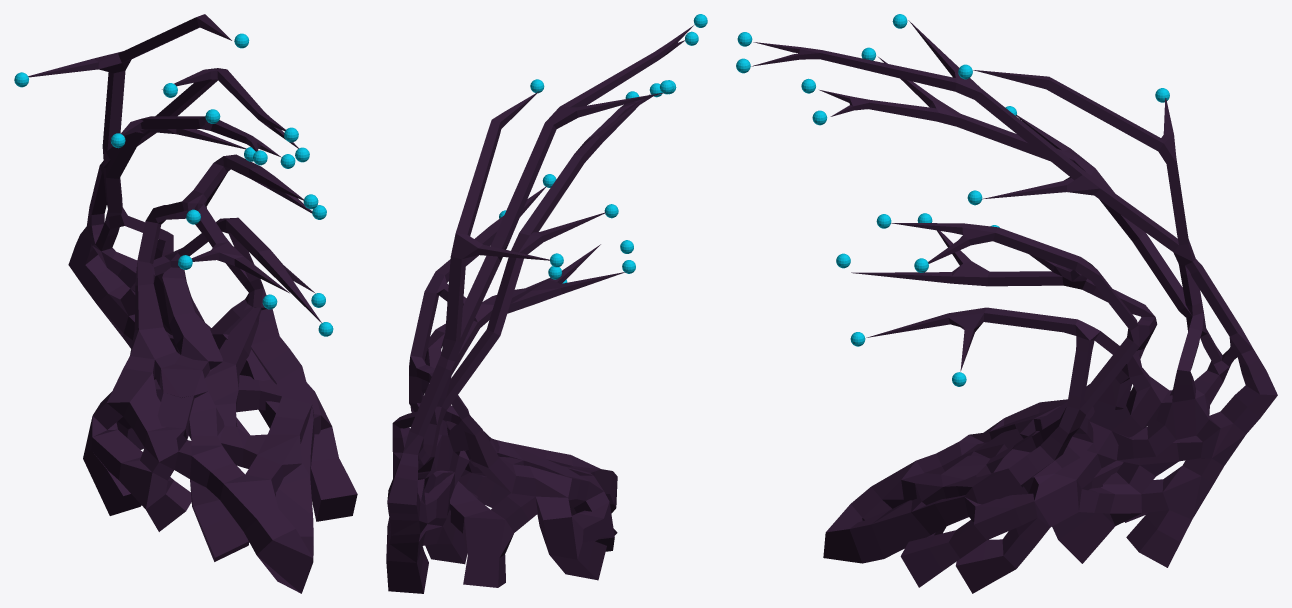
File: alien_tree.fbx
3 views of the same model, side by side, from view 1: azimuth 30°, elevation 25°; view 2: azimuth 150°, elevation 25°; view 3: azimuth 270°, elevation 25° (orthographic). The views are drawn at different scales.
Parts seen in each view (by area): view 1: Cube, Sphere.013; view 2: Cube, Sphere.013; view 3: Cube, Sphere.013.
Boxes of the visible parts, <box> form: Cube: <box>28,14,357,593</box>; Sphere.013: <box>14,33,333,336</box>; Cube: <box>386,25,693,593</box>; Sphere.013: <box>499,14,707,283</box>; Cube: <box>751,20,1277,593</box>; Sphere.013: <box>736,14,1169,386</box>.
Bounding box in the file's own units: 1.52 × 3.24 × 3.15.
